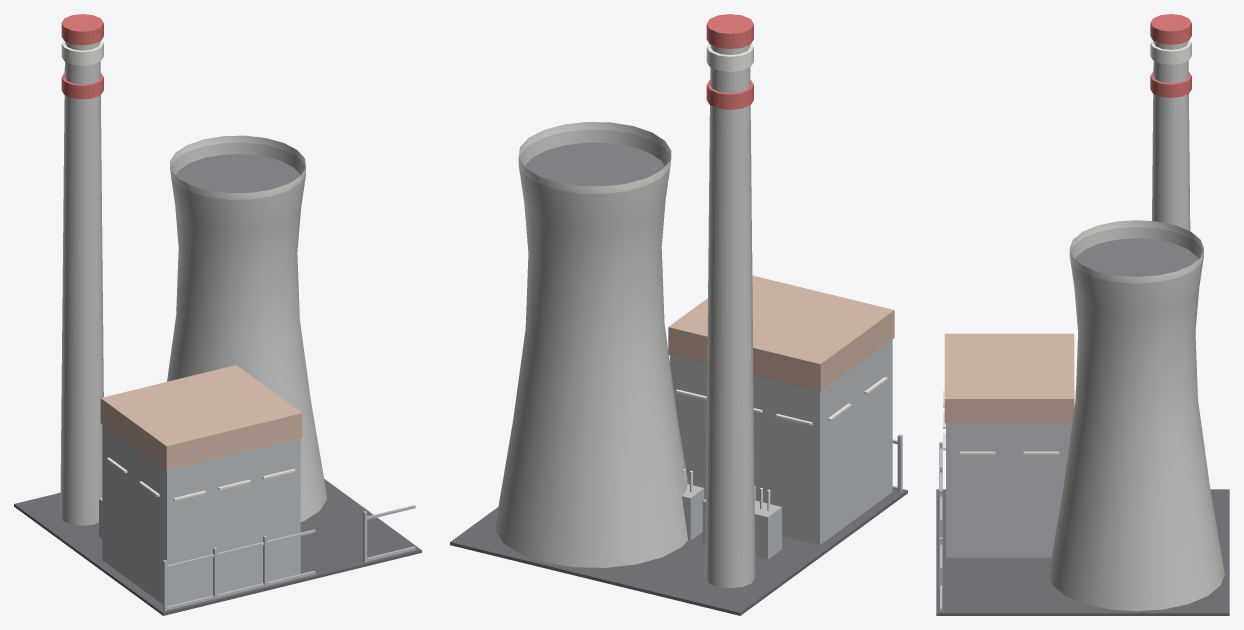
The picture shows the model from 3 angles, left to right: view 1: azimuth 30°, elevation 25°; view 2: azimuth 150°, elevation 25°; view 3: azimuth 270°, elevation 25°; orthographic projection. The views are drawn at different scales.
Parts seen in each view (by area): view 1: i_3_1_c; view 2: i_3_1_c; view 3: i_3_1_c.
Part boxes in pixels (x1=…): i_3_1_c: x1=14, y1=14, x2=421, y2=615; i_3_1_c: x1=450, y1=14, x2=907, y2=615; i_3_1_c: x1=936, y1=14, x2=1229, y2=615.
Size of the model in its own units: 12 by 22 by 12.
